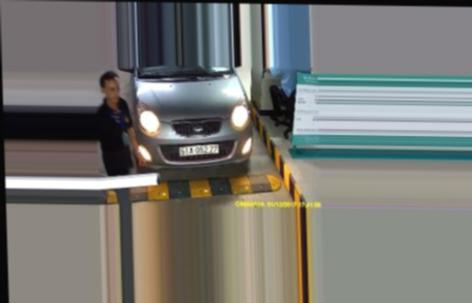License_Plate: (176, 144, 222, 157)
